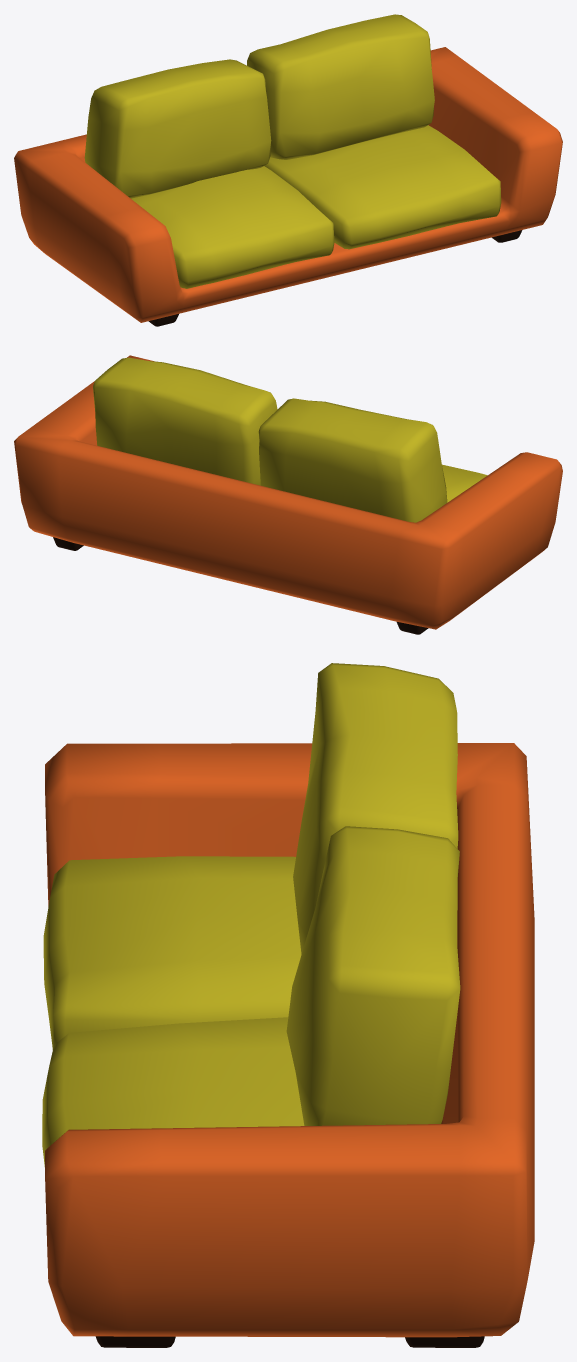
Rendered from Sofa.fbx.
3 renders of one model, top to bottom at view 1: azimuth 30°, elevation 25°; view 2: azimuth 150°, elevation 25°; view 3: azimuth 270°, elevation 25°, orthographic. The views are drawn at different scales.
Parts seen in each view (by area): view 1: SM_Sofa_Med; view 2: SM_Sofa_Med; view 3: SM_Sofa_Med.
Boxes of the visible parts, x1,y1,x2,y2 form: SM_Sofa_Med: (14, 14, 562, 326); SM_Sofa_Med: (14, 355, 562, 634); SM_Sofa_Med: (42, 663, 534, 1347).
Size of the model in its own units: 280 by 110 by 137.
